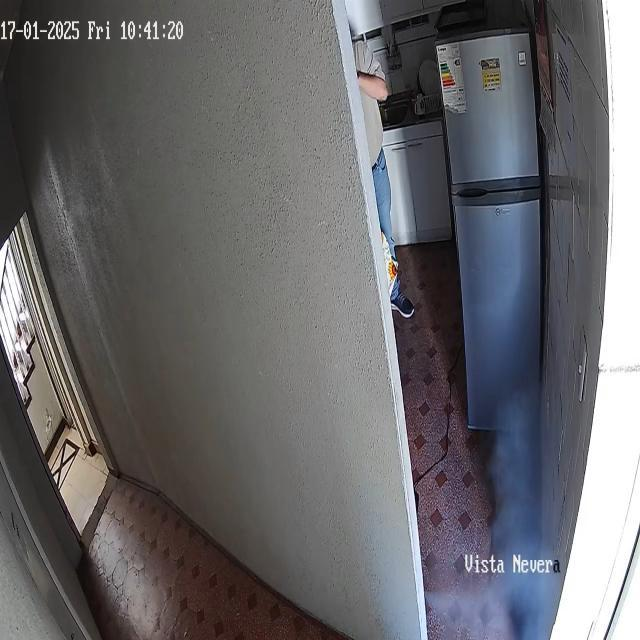smoke: (422, 379, 562, 640)
